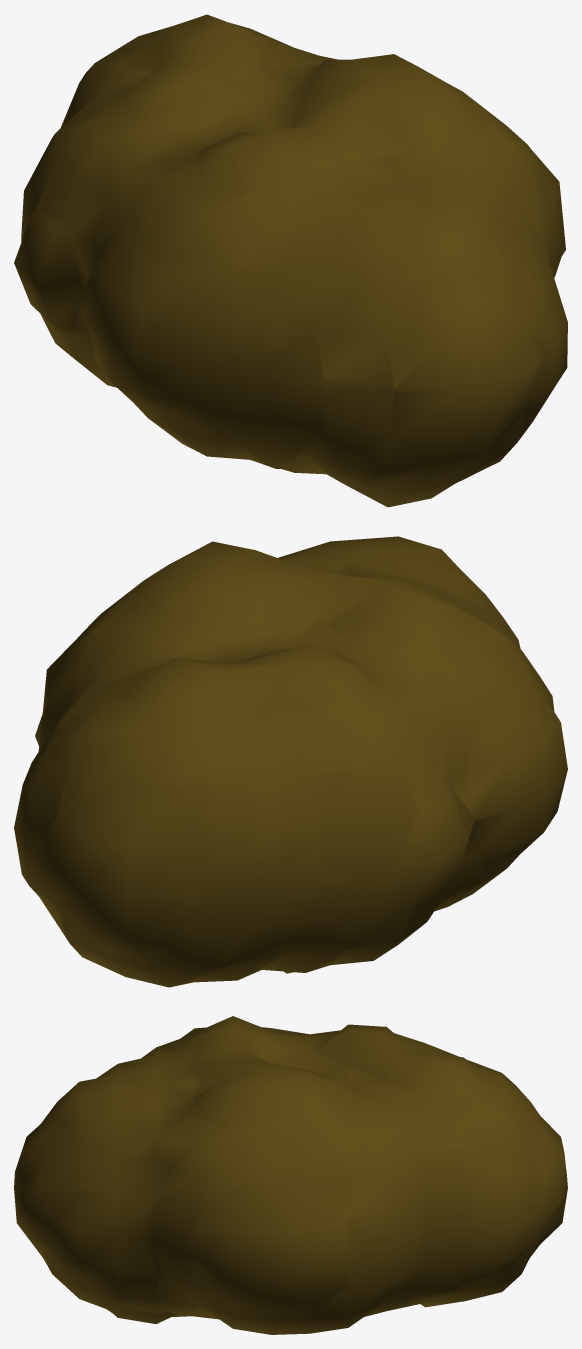
File: Hedge03.FBX
The picture shows the model from 3 angles, top to bottom: view 1: azimuth 30°, elevation 25°; view 2: azimuth 150°, elevation 25°; view 3: azimuth 270°, elevation 25°; orthographic projection. The views are drawn at different scales.
Parts seen in each view (by area): view 1: Hedge03; view 2: Hedge03; view 3: Hedge03.
Boxes of the visible parts, left/top/right/bottom form: Hedge03: left=14, top=14, right=567, bottom=507; Hedge03: left=14, top=536, right=567, bottom=987; Hedge03: left=14, top=1016, right=567, bottom=1334.
Size of the model in its own units: 3.01 by 2.14 by 4.09.
